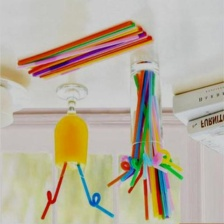drinking_straw: (12, 18, 158, 84), (74, 160, 116, 220), (35, 158, 71, 220)
glass: (123, 56, 168, 153), (48, 81, 91, 181)
